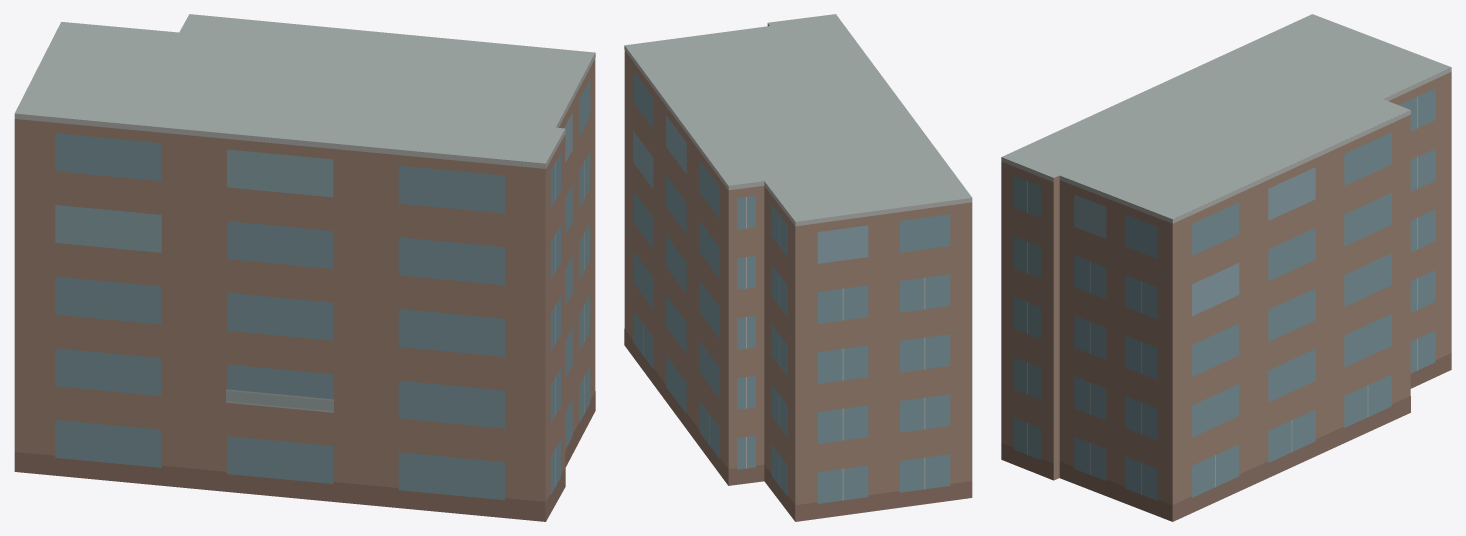
The model's file is survey-upis-32672974.glb.
The picture shows the model from 3 angles, left to right: view 1: azimuth 30°, elevation 25°; view 2: azimuth 150°, elevation 25°; view 3: azimuth 270°, elevation 25°; orthographic projection. The views are drawn at different scales.
Visible parts, largest first — view 1: survey-upis-32672974.tmp; view 2: survey-upis-32672974.tmp; view 3: survey-upis-32672974.tmp.
Boxes of the visible parts, x1=… form: survey-upis-32672974.tmp: x1=14, y1=14, x2=595, y2=521; survey-upis-32672974.tmp: x1=624, y1=14, x2=972, y2=521; survey-upis-32672974.tmp: x1=1001, y1=14, x2=1451, y2=521.
Bounding box in the file's own units: 23.87 × 16.4 × 22.12.
